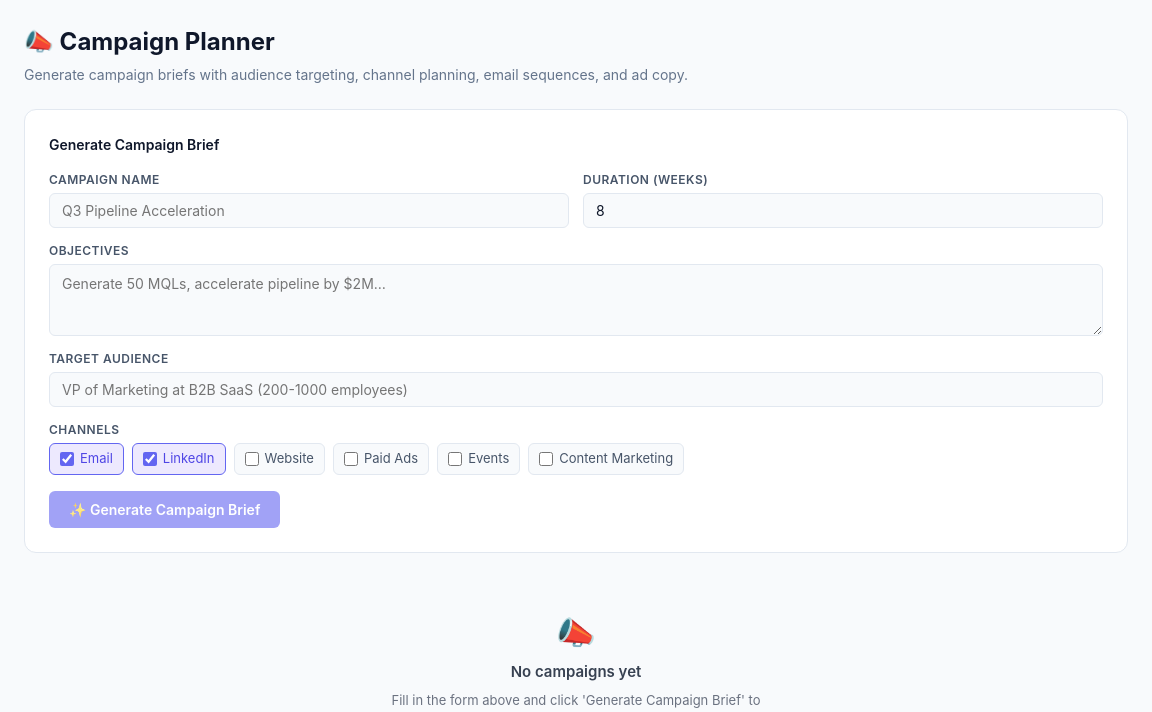
Campaigns page › generate button state › generate button is enabled when both name and objectives are filled
In the field with test id "campaign-name-input": (309, 210) [49, 193, 569, 228], type "Q3 Campaign"
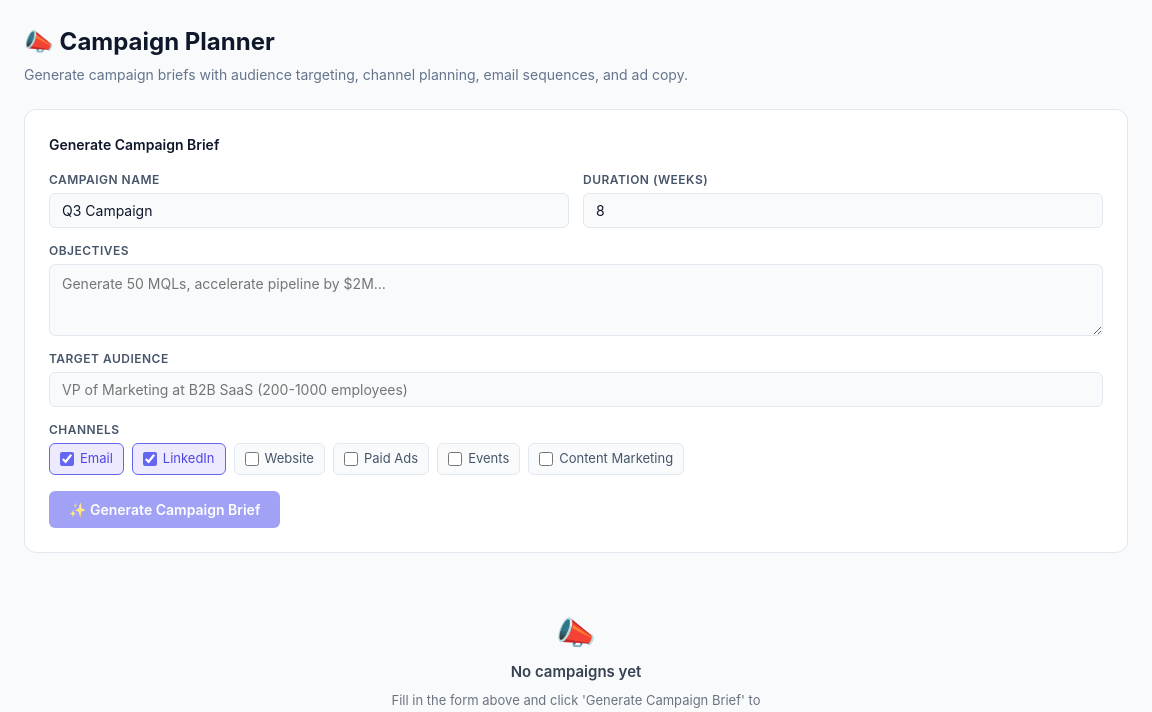
In the text box with test id "objectives-input": (576, 300) [49, 264, 1103, 336], type "Generate 50 MQLs"
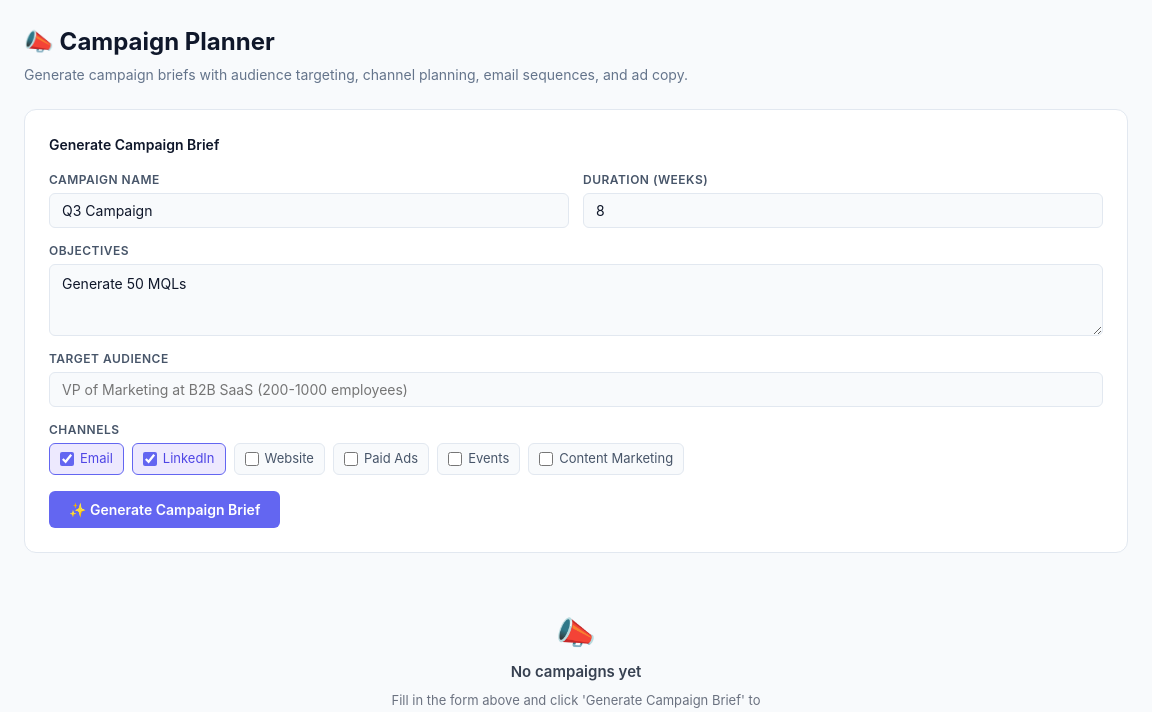
Check: the button with test id "generate-campaign-button" is enabled, box [49, 490, 280, 528]
